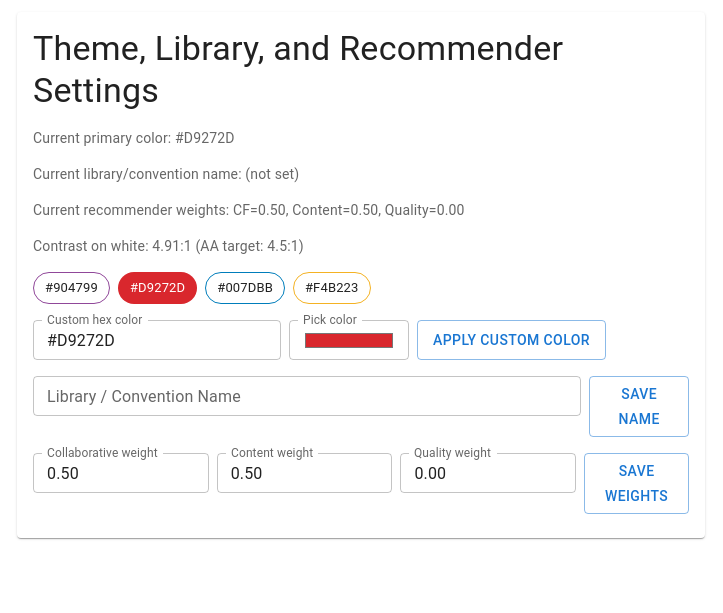
Test: AdminThemePage › warns when selected color fails AA contrast on white
Expected: the text "Current primary color: #D9272D" is shown, [33,130,235,146]
Click the button "#F4B223" at (332, 288), box [293,272,371,304]
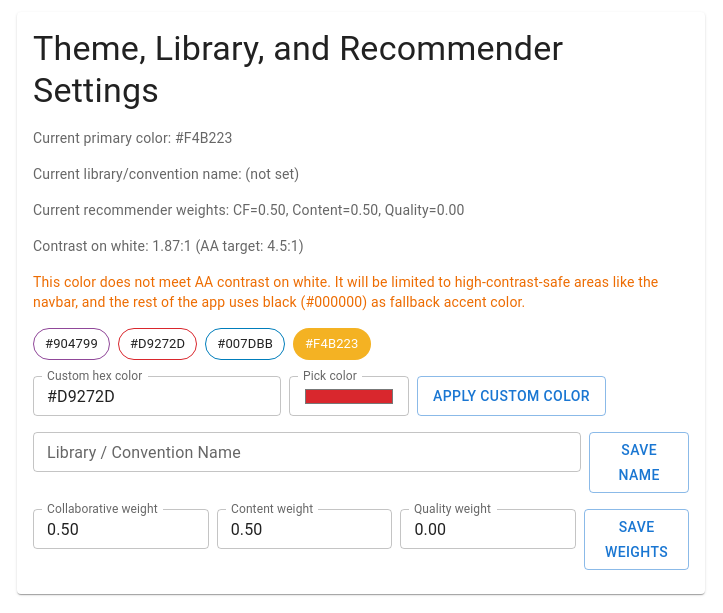
Now the text "does not meet AA contrast on white" is shown, box [33,274,658,310]
